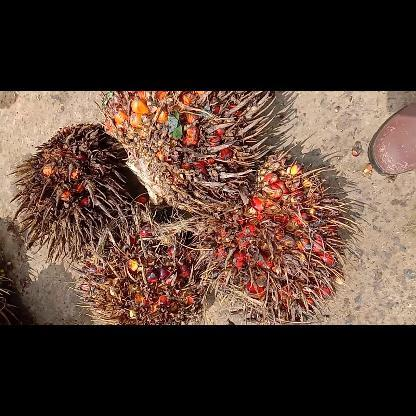Terlalu masak: (193, 150, 360, 322), (95, 91, 304, 223), (4, 118, 146, 270), (66, 200, 210, 324)
